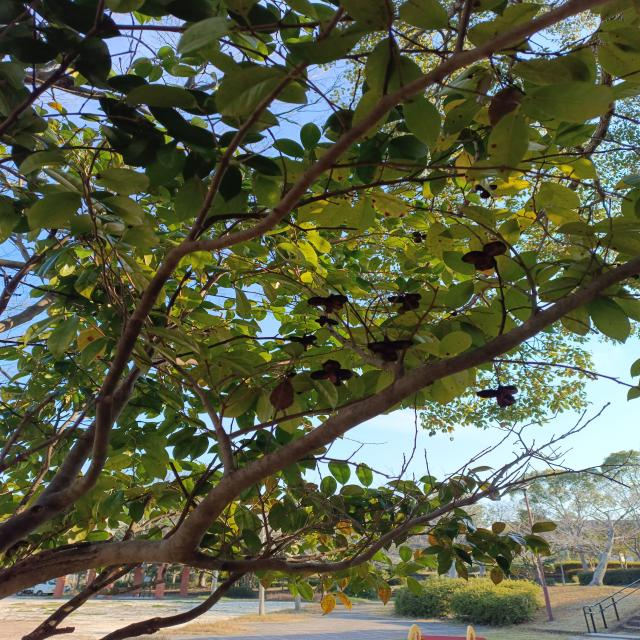Branch: (0, 259, 635, 599), (0, 493, 58, 556)
Twig: (63, 0, 607, 511), (179, 431, 576, 573), (196, 147, 636, 238), (184, 4, 342, 243), (39, 265, 193, 498), (102, 520, 349, 640), (144, 332, 236, 476), (23, 563, 141, 640), (228, 393, 378, 439)
